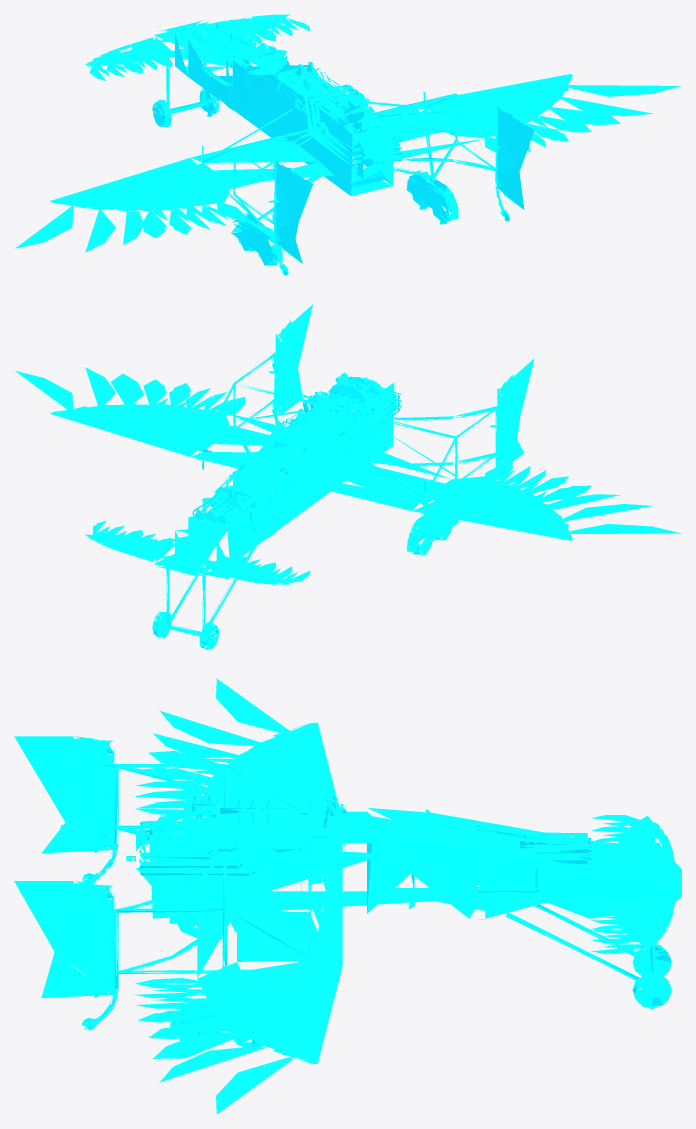
The model's file is PXAF002.glb.
3 views of the same model, one above another, from view 1: azimuth 30°, elevation 25°; view 2: azimuth 150°, elevation 25°; view 3: azimuth 270°, elevation 25° (orthographic). The views are drawn at different scales.
Visible parts, largest first — view 1: misc; view 2: misc; view 3: misc.
Part boxes in pixels (x1,y1,x2,y2): misc: (15, 14, 680, 275); misc: (15, 304, 681, 649); misc: (14, 678, 681, 1114).
Size of the model in its own units: 0.8686 by 0.18 by 0.5619.
